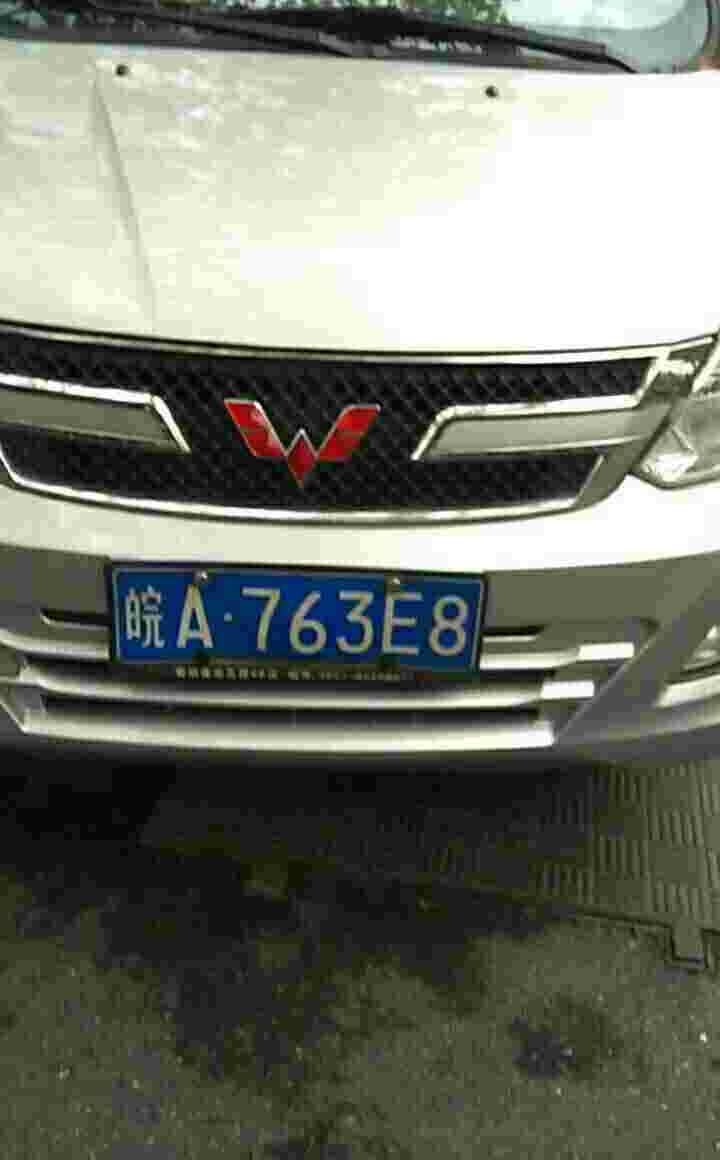license_plate: (93, 570, 491, 665)
